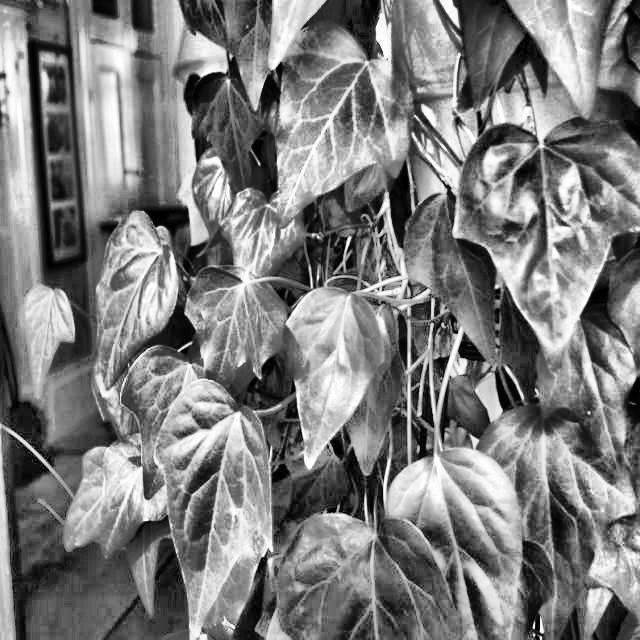plants: (40, 4, 639, 639), (150, 369, 272, 639)
